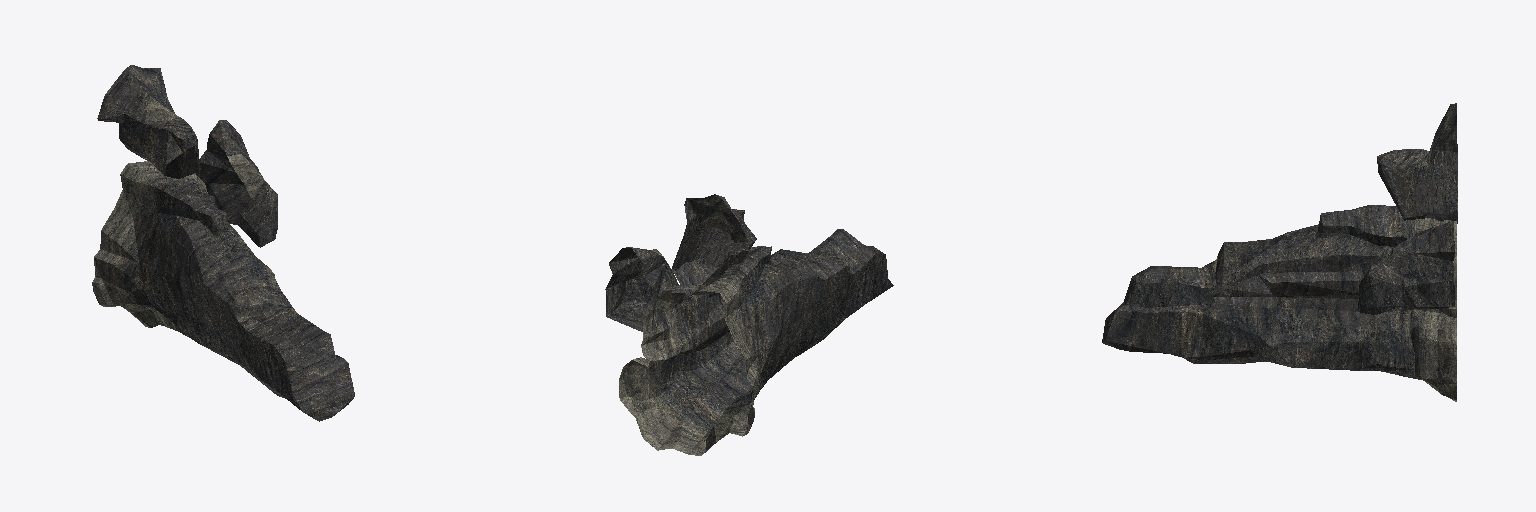
The picture shows the model from 3 angles: view 1: azimuth 30°, elevation 25°; view 2: azimuth 150°, elevation 25°; view 3: azimuth 270°, elevation 25°; orthographic projection.
Visible parts, largest first — view 1: Body.rock_desert_g.smd.mesh_0; view 2: Body.rock_desert_g.smd.mesh_0; view 3: Body.rock_desert_g.smd.mesh_0.
Boxes of the visible parts, x1,y1,x2,y2 form: Body.rock_desert_g.smd.mesh_0: [92, 65, 354, 421]; Body.rock_desert_g.smd.mesh_0: [605, 194, 893, 455]; Body.rock_desert_g.smd.mesh_0: [1102, 103, 1457, 401].
Size of the model in its own units: 164 by 281 by 335.
1 materials, 1 textured.